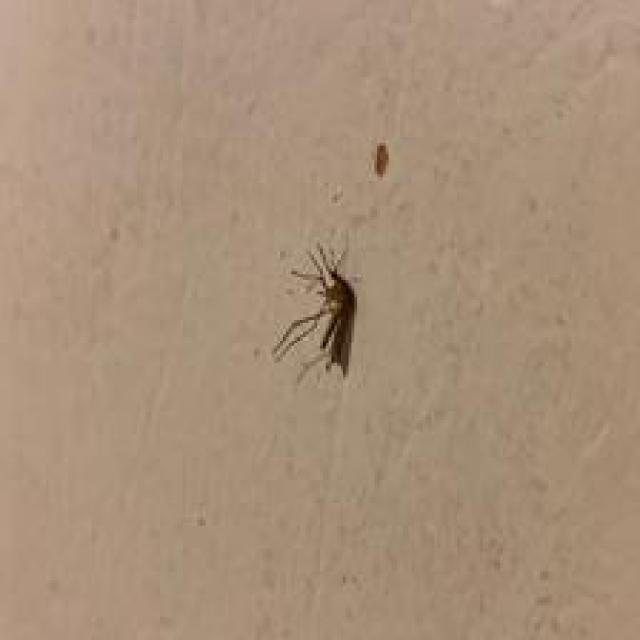Culex: (270, 242, 359, 384)
